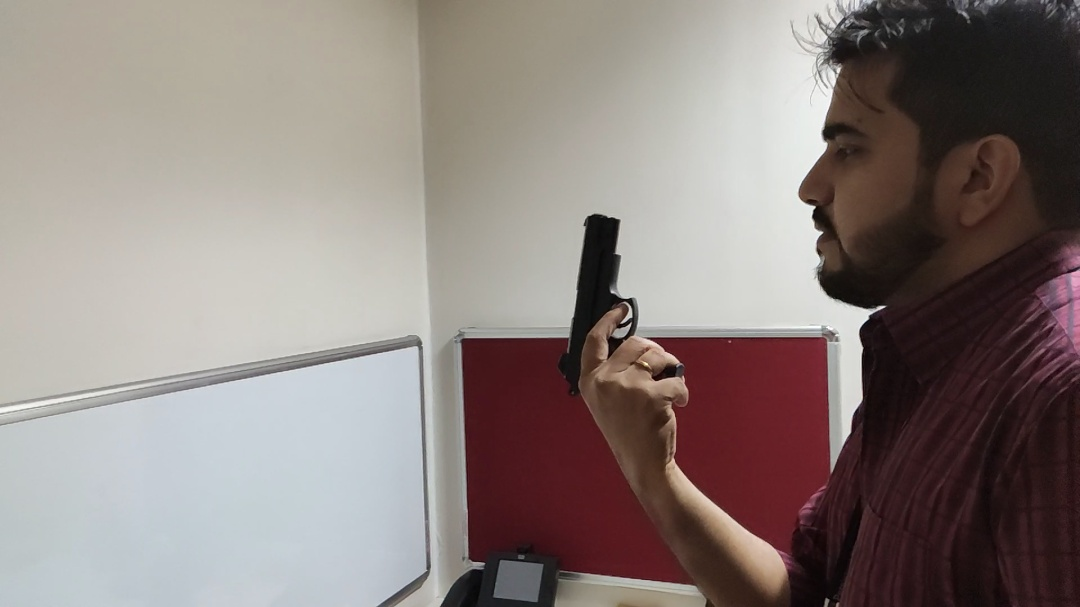gun: (350, 262, 402, 327)
